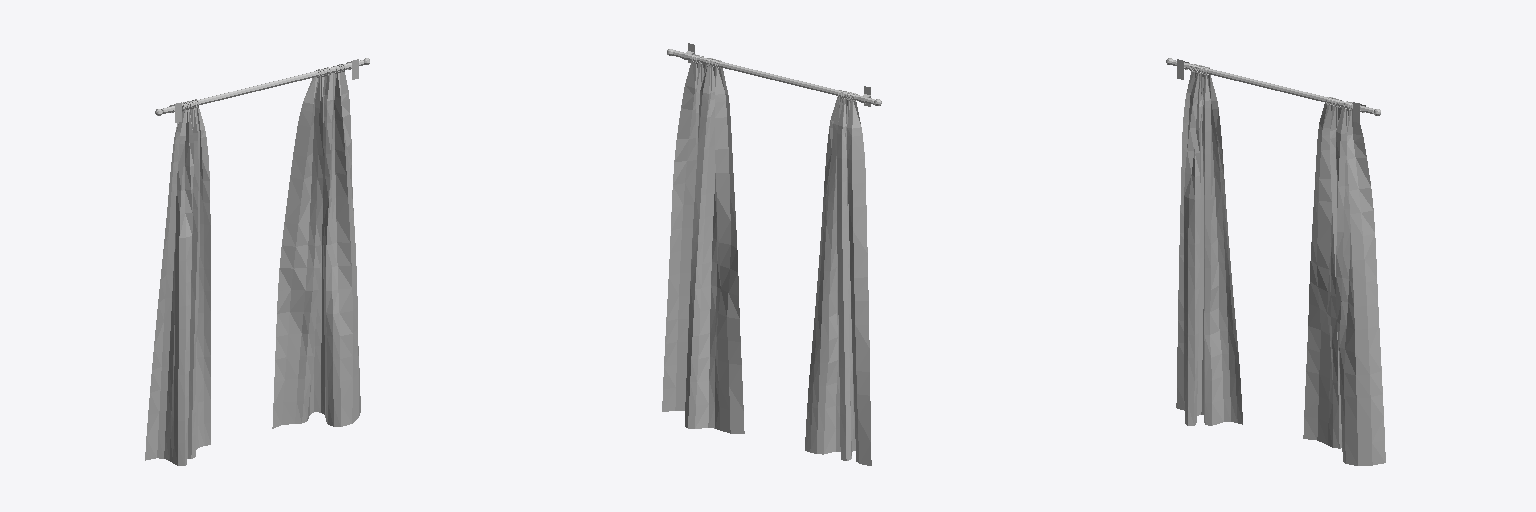
Rendered from curtains.obj.
3 renders of one model, left to right at view 1: azimuth 30°, elevation 25°; view 2: azimuth 150°, elevation 25°; view 3: azimuth 330°, elevation 25°, orthographic.
Visible parts, largest first — view 1: curtains_Cylinder.021; view 2: curtains_Cylinder.021; view 3: curtains_Cylinder.021.
Boxes of the visible parts, x1=… form: curtains_Cylinder.021: x1=145, y1=58, x2=369, y2=465; curtains_Cylinder.021: x1=662, y1=43, x2=881, y2=465; curtains_Cylinder.021: x1=1166, y1=58, x2=1385, y2=465.
Size of the model in its own units: 7.63 by 12.4 by 1.36.